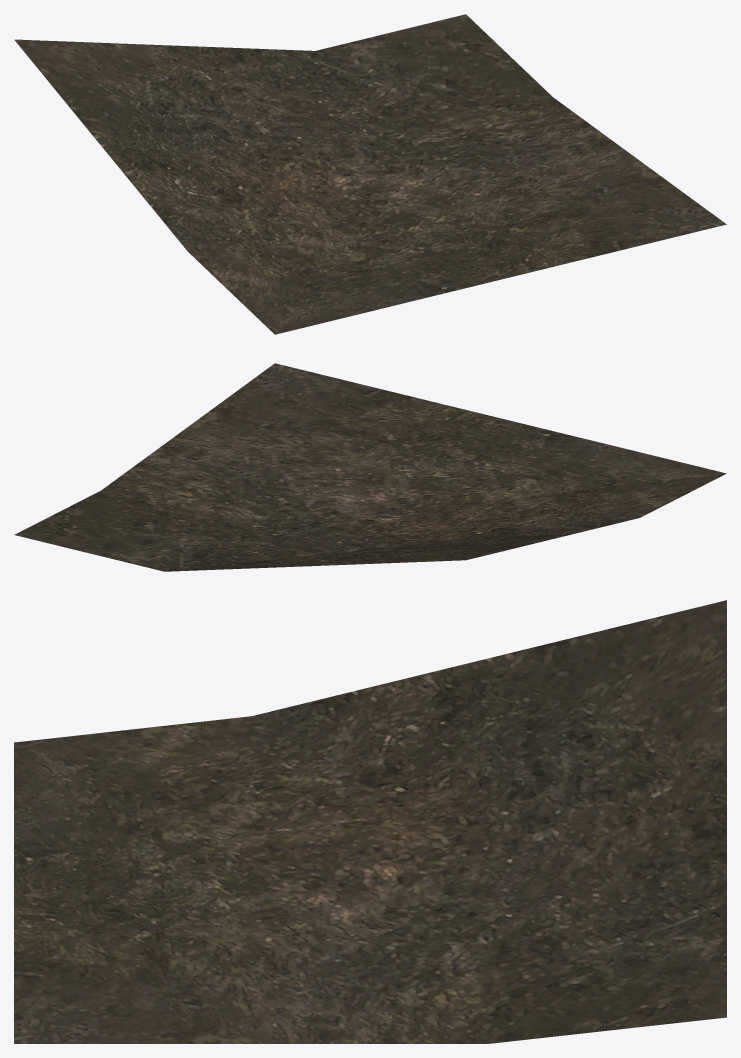
The model's file is blend_weeds04.fbx.
3 views of the same model, one above another, from view 1: azimuth 30°, elevation 25°; view 2: azimuth 150°, elevation 25°; view 3: azimuth 270°, elevation 25° (orthographic). The views are drawn at different scales.
Visible parts, largest first — view 1: obj0.025; view 2: obj0.025; view 3: obj0.025.
Part boxes in pixels (left/top/right/bottom): obj0.025: left=14, top=14, right=726, bottom=334; obj0.025: left=14, top=363, right=726, bottom=571; obj0.025: left=14, top=600, right=726, bottom=1043.
Bounding box in the file's own units: 7.5 × 1.65 × 7.5.
